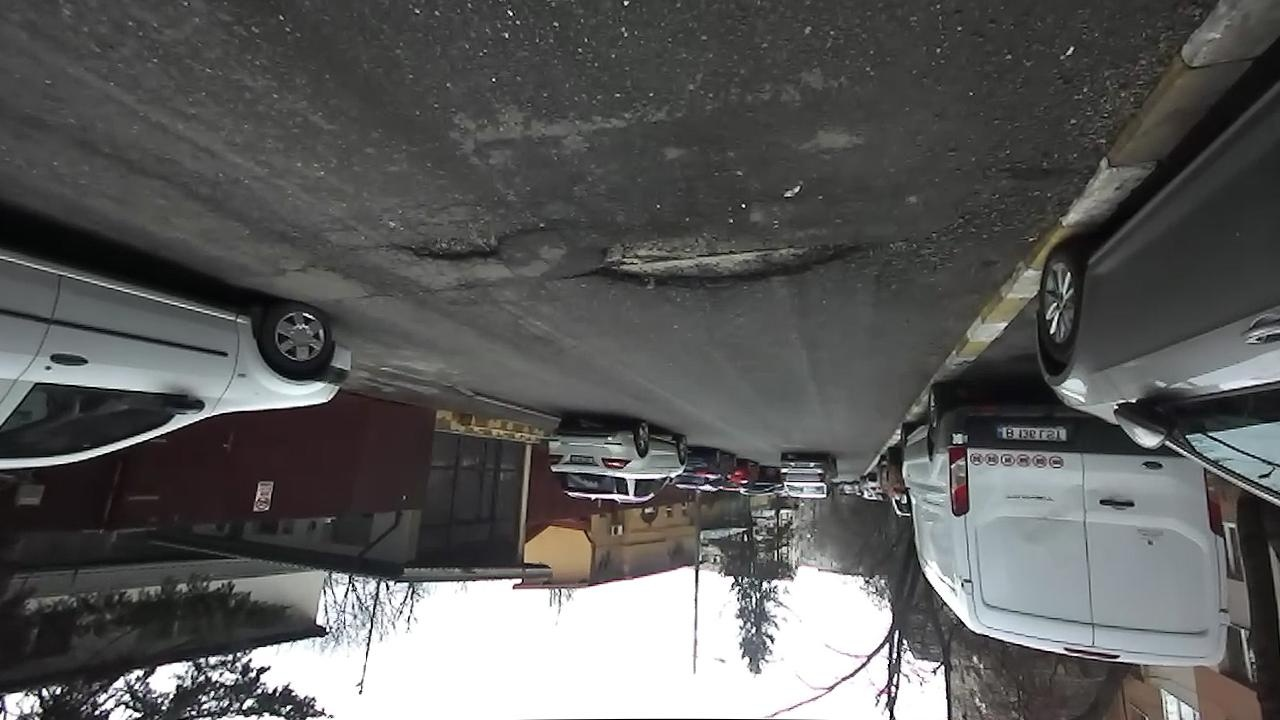pothole: (586, 224, 875, 295), (392, 219, 521, 267)
